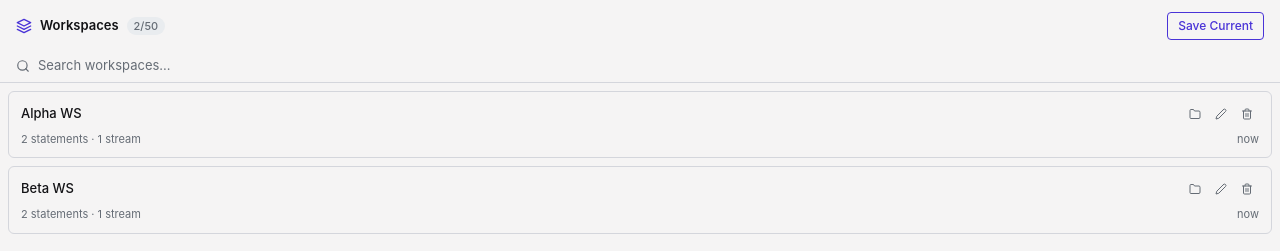
Test case: [@workspaces] WorkspacesPanel — search › clear button resets search
This screenshot has width=1280, height=251.
Type "alpha" into the field labelled "Search workspaces..." at (651, 66), box top-left (38, 56), bottom-right (1264, 76)
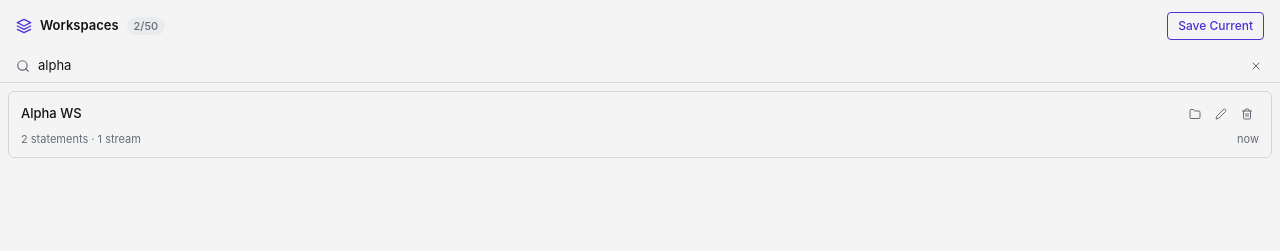
Click the button named "clear search" at (1256, 66), box top-left (1248, 58), bottom-right (1264, 74)
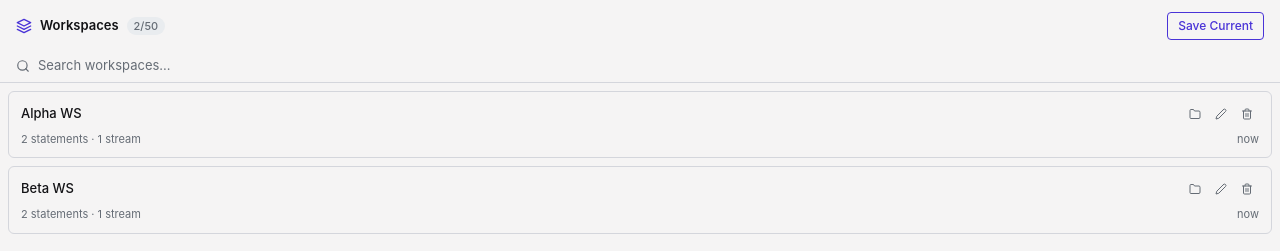
Expected: the text "Beta WS" is shown, top-left (21, 180), bottom-right (74, 196)
